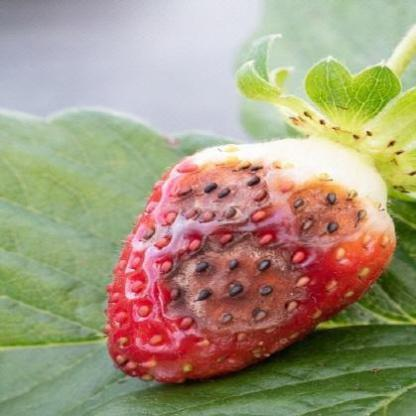Strawberry_Anthracnose_Fruit_Rot: (136, 158, 375, 347)
